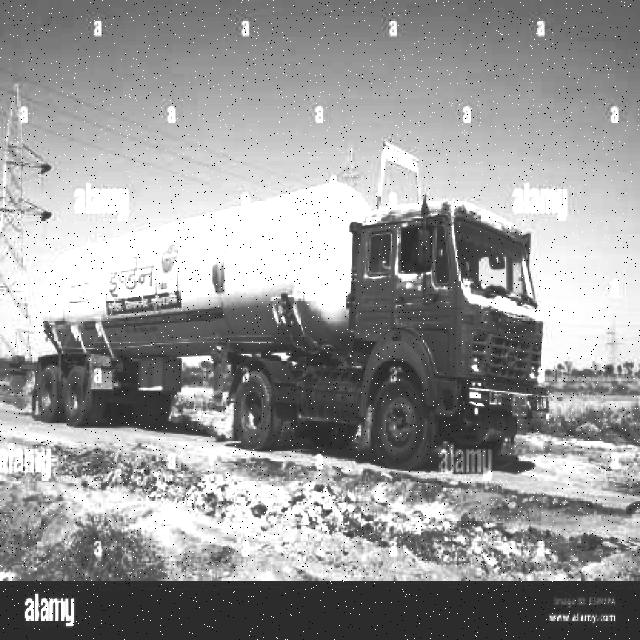HCV: (54, 251, 558, 459)
